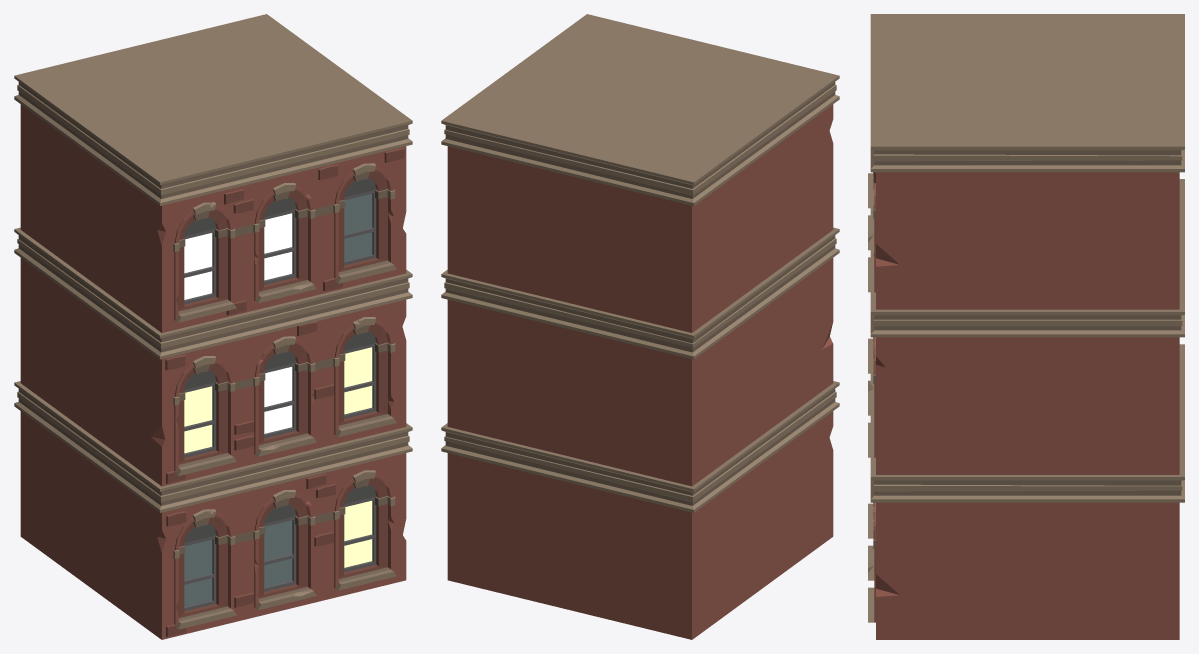
The model's file is SM_Bld_Apartment_Stack_02.fbx.
3 renders of one model, left to right at view 1: azimuth 30°, elevation 25°; view 2: azimuth 150°, elevation 25°; view 3: azimuth 270°, elevation 25°, orthographic. The views are drawn at different scales.
Parts seen in each view (by area): view 1: SM_Bld_Apartment_Stack_02; view 2: SM_Bld_Apartment_Stack_02; view 3: SM_Bld_Apartment_Stack_02.
Boxes of the visible parts, x1,y1,x2,y2 form: SM_Bld_Apartment_Stack_02: (14, 14, 412, 639); SM_Bld_Apartment_Stack_02: (441, 14, 839, 639); SM_Bld_Apartment_Stack_02: (868, 14, 1184, 639).
Bounding box in the file's own units: 517 × 900 × 521.
